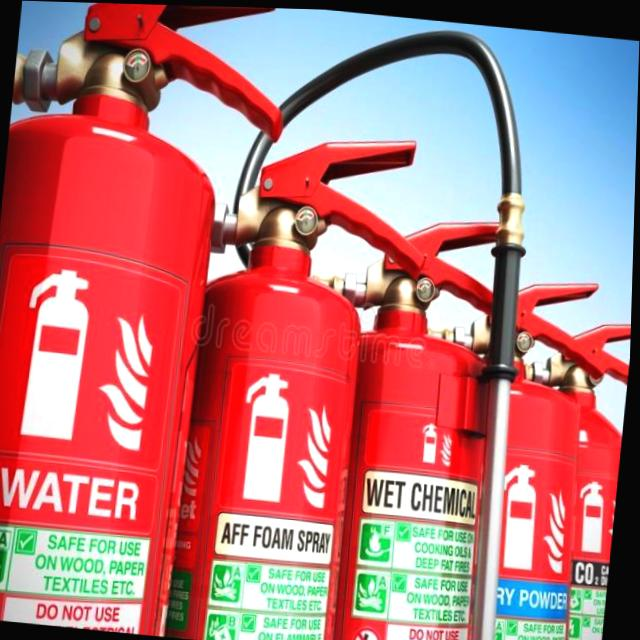FireExtinguisher: (183, 5, 557, 640), (0, 0, 305, 640), (110, 108, 442, 640), (371, 255, 620, 640), (457, 295, 633, 640)
